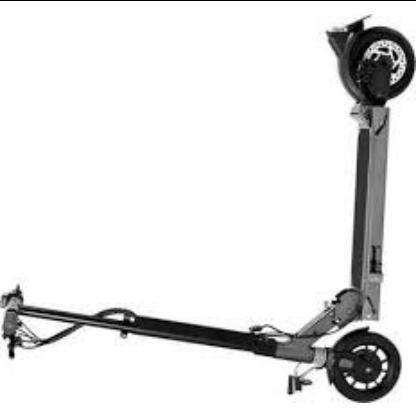bike: (2, 287, 401, 404)
traffic light: (1, 285, 24, 359)
